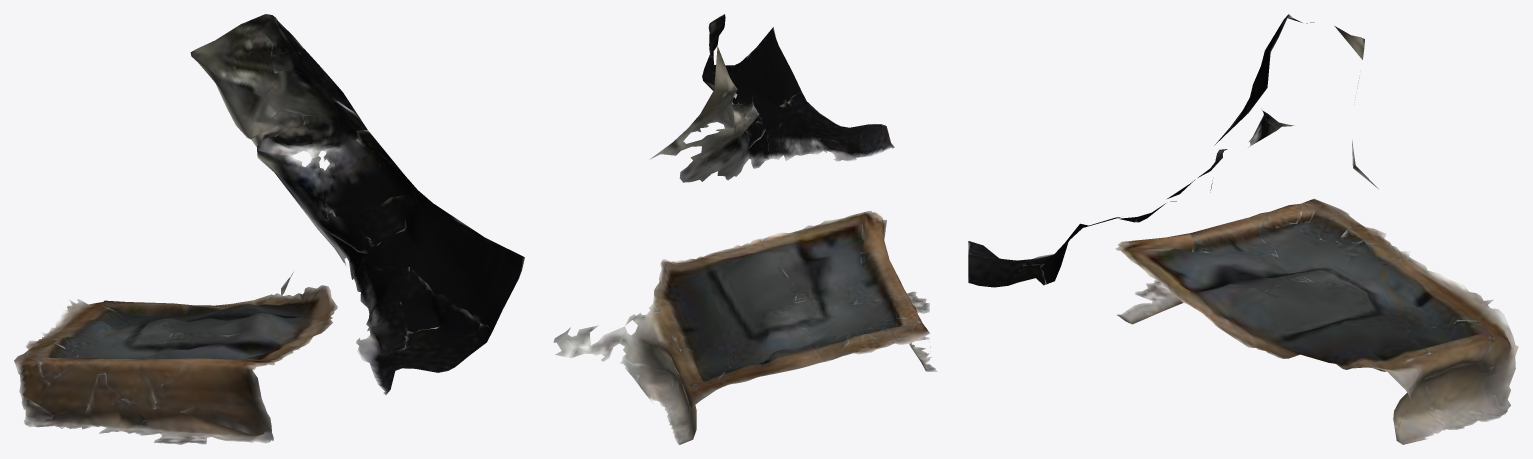
Rendered from hall.glb.
3 views of the same model, side by side, from view 1: azimuth 30°, elevation 25°; view 2: azimuth 150°, elevation 25°; view 3: azimuth 270°, elevation 25° (orthographic). The views are drawn at different scales.
Bounding box in the file's own units: 0.7854 × 0.8578 × 0.9992.
1 material, 1 textured.
